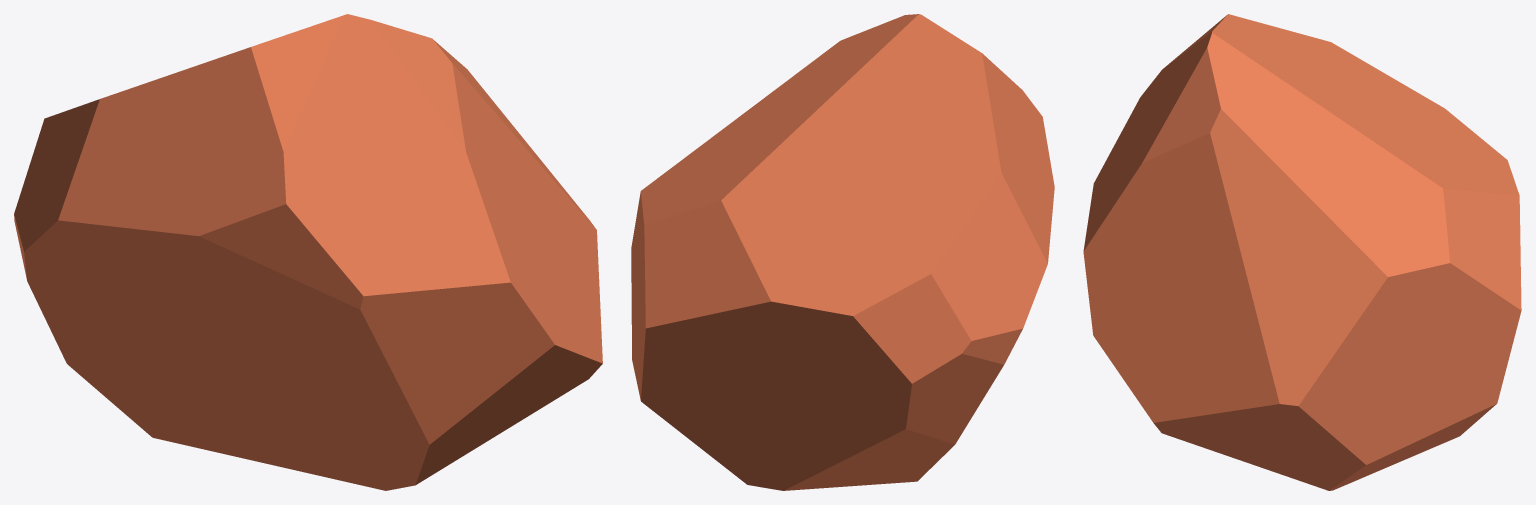
File: Rock_V05.fbx
3 views of the same model, side by side, from view 1: azimuth 30°, elevation 25°; view 2: azimuth 150°, elevation 25°; view 3: azimuth 270°, elevation 25° (orthographic). The views are drawn at different scales.
Parts seen in each view (by area): view 1: Rock_05; view 2: Rock_05; view 3: Rock_05.
Boxes of the visible parts, bbox=[...] form: Rock_05: bbox=[14, 14, 602, 490]; Rock_05: bbox=[631, 14, 1054, 490]; Rock_05: bbox=[1083, 14, 1521, 490].
Size of the model in its own units: 105 by 91.16 by 94.69.
